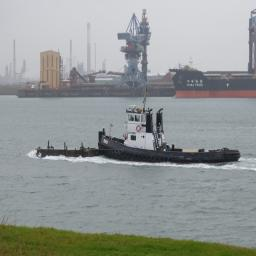tugboat: (97, 104, 243, 168)
